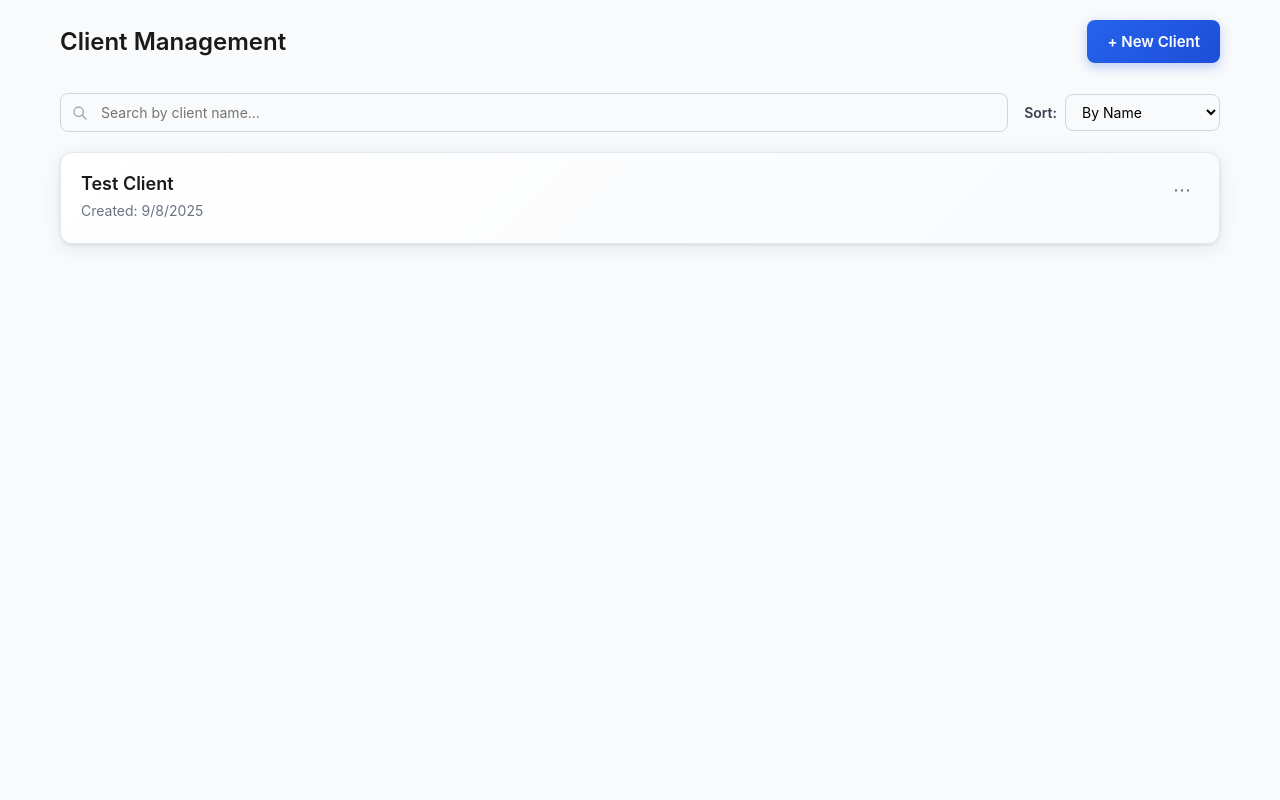
Test: ClientManagement Component › New Client Form › should reset form after successful submission
Step 1. Click the button "+ New Client" → click(1154, 42), box [1088,20,1220,63]
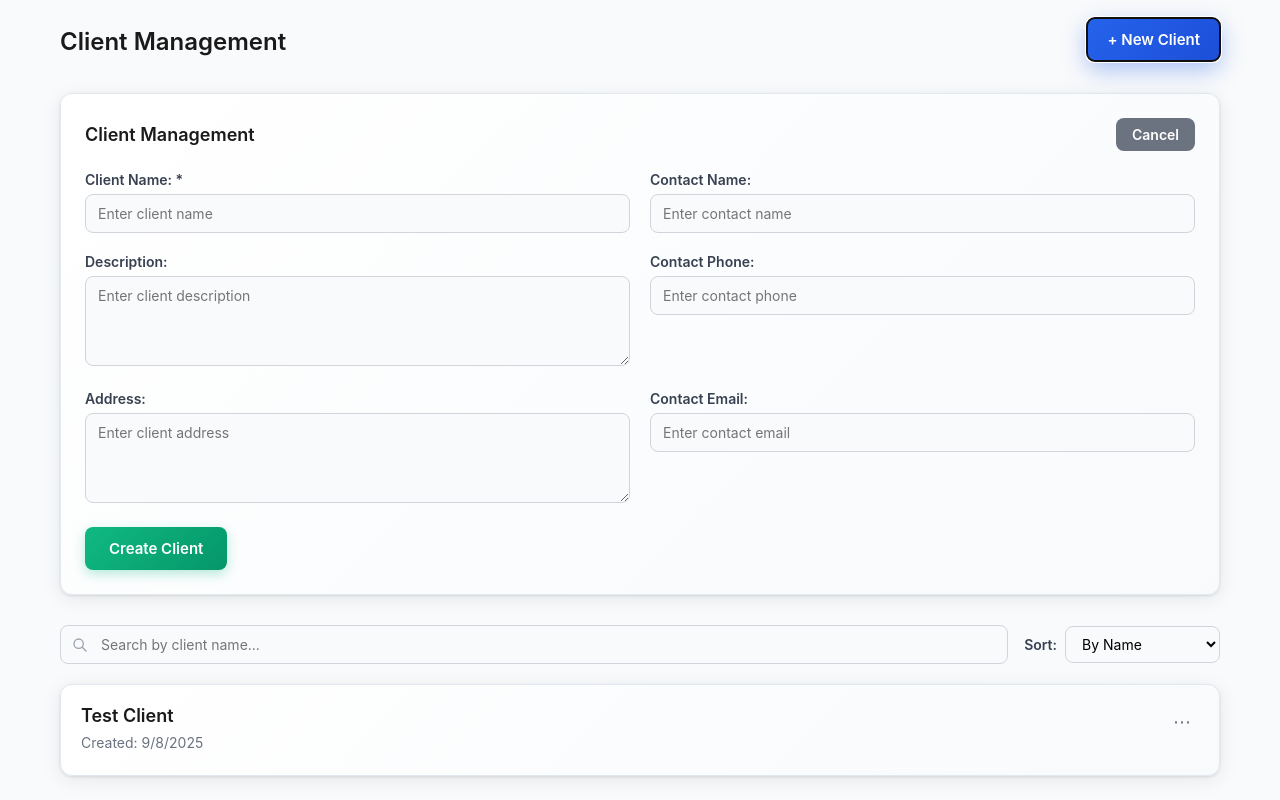
Step 2. Type "Test Client" into the field with placeholder "Enter client name" → (358, 214), box [85,194,630,233]
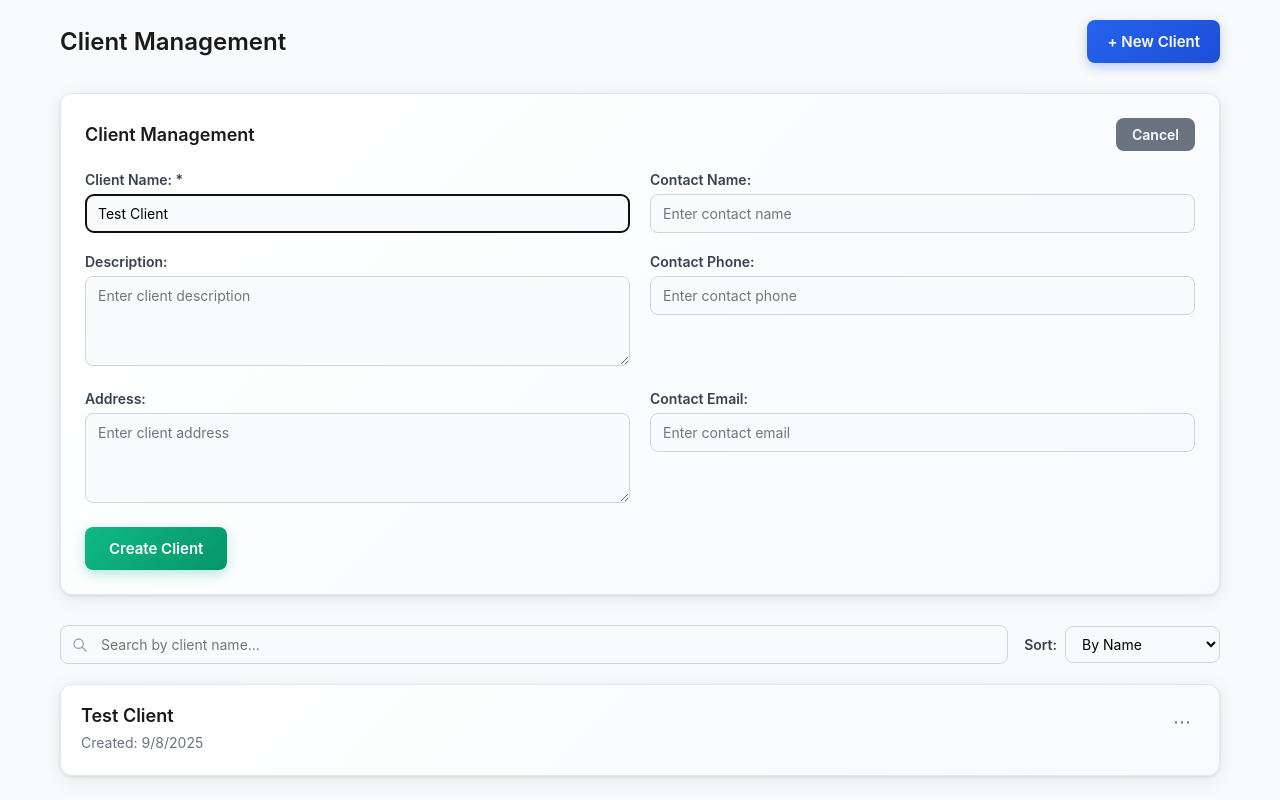
Step 3. Click the button "Create Client" → click(156, 548), box [85,527,227,570]
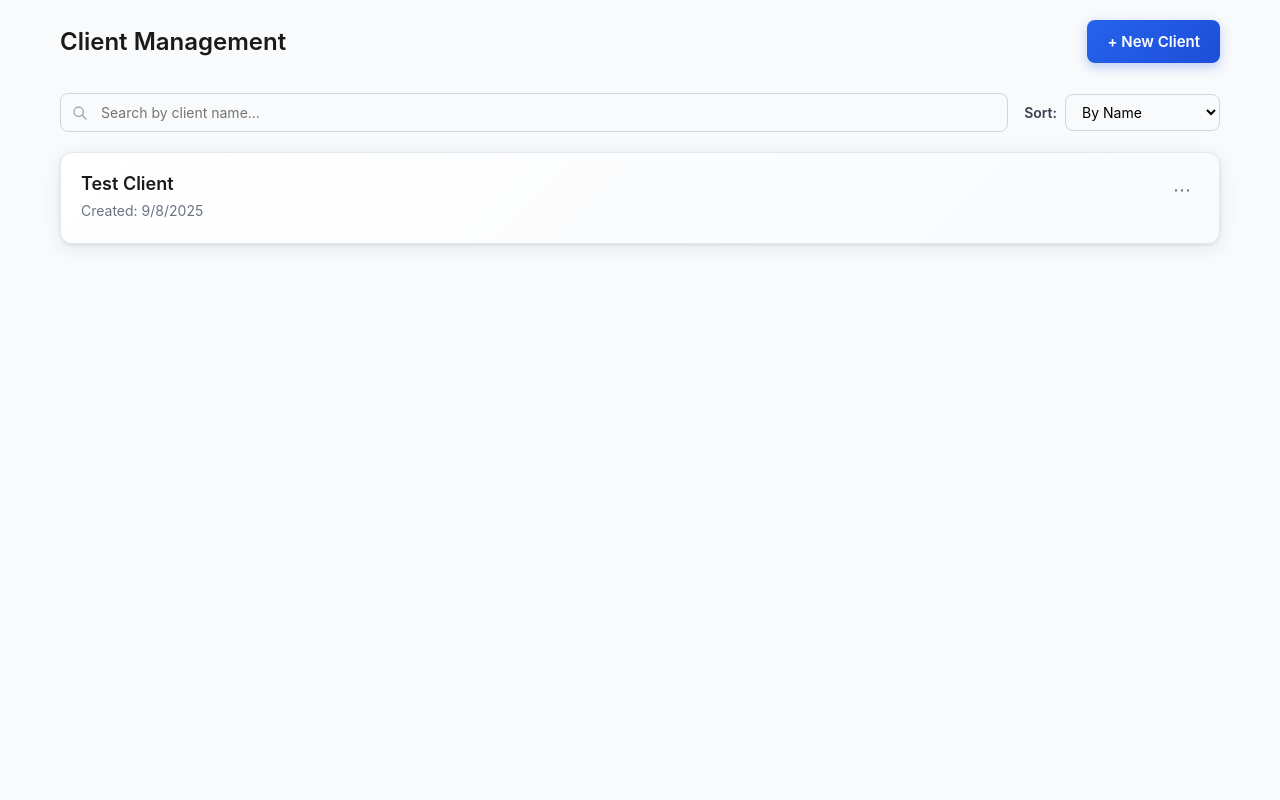
Check: the text "Client Name:" is gone
